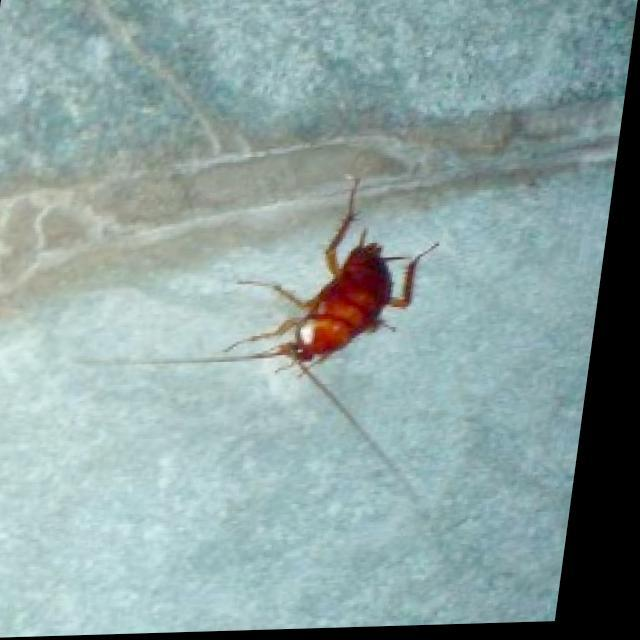cockroach: (292, 241, 396, 364)
